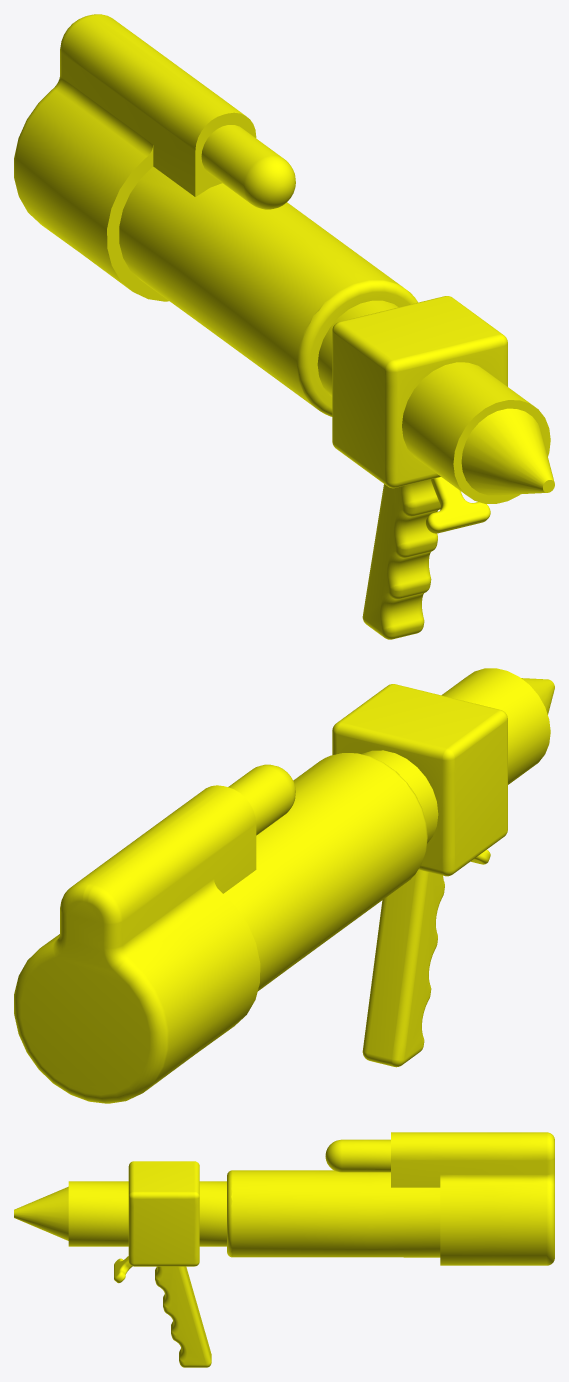
The model's file is grease-gun.glb.
3 renders of one model, top to bottom at view 1: azimuth 30°, elevation 25°; view 2: azimuth 150°, elevation 25°; view 3: azimuth 270°, elevation 25°, orthographic. The views are drawn at different scales.
Visible parts, largest first — view 1: Ggun_uv; view 2: Ggun_uv; view 3: Ggun_uv.
Part boxes in pixels (left/top/right/bottom): Ggun_uv: left=14, top=14, right=554, bottom=639; Ggun_uv: left=14, top=668, right=554, bottom=1103; Ggun_uv: left=14, top=1132, right=554, bottom=1367.
Bounding box in the file's own units: 38 × 92.53 × 198.
Materials: 6 (6 with a texture image).
